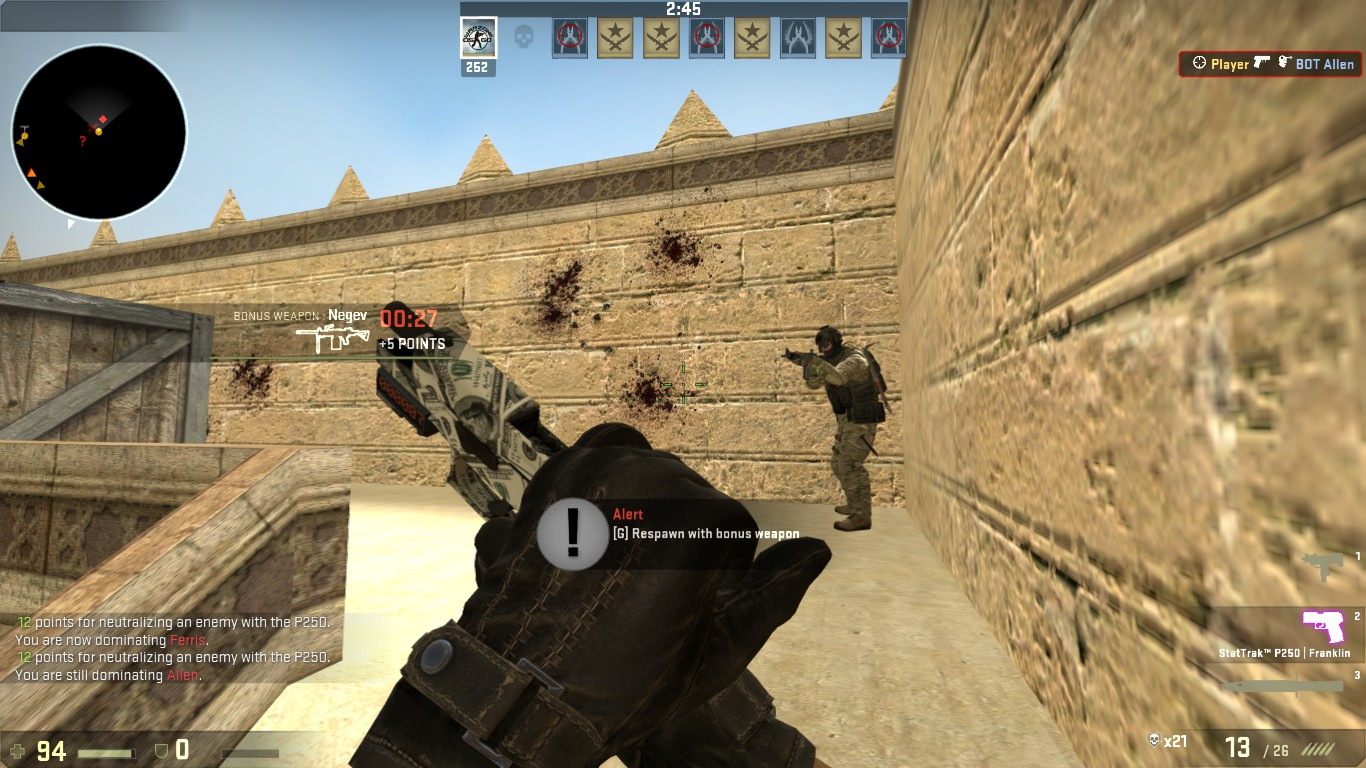c: (804, 319, 887, 530)
ch: (809, 322, 847, 365)
